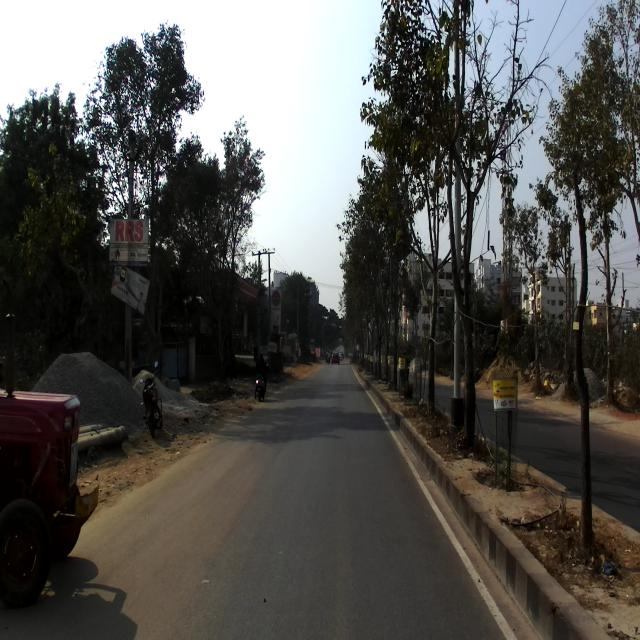motorcycle ahead at: (134, 368, 168, 441)
